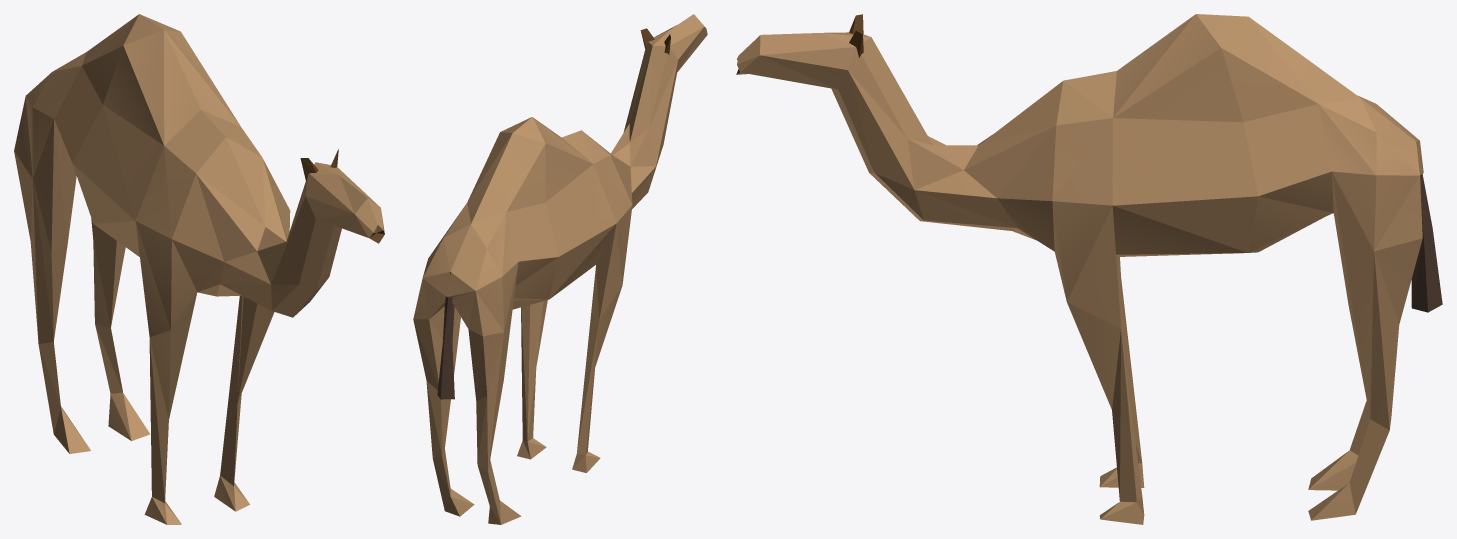
File: camel_lod1.glb
3 views of the same model, side by side, from view 1: azimuth 30°, elevation 25°; view 2: azimuth 150°, elevation 25°; view 3: azimuth 270°, elevation 25° (orthographic). The views are drawn at different scales.
Visible parts, largest first — view 1: camel; view 2: camel; view 3: camel.
Part boxes in pixels (x1,y1,x2,y2): camel: [14, 14, 384, 524]; camel: [413, 14, 707, 524]; camel: [736, 14, 1442, 524].
Bounding box in the file's own units: 0.7381 × 2.39 × 3.14.
